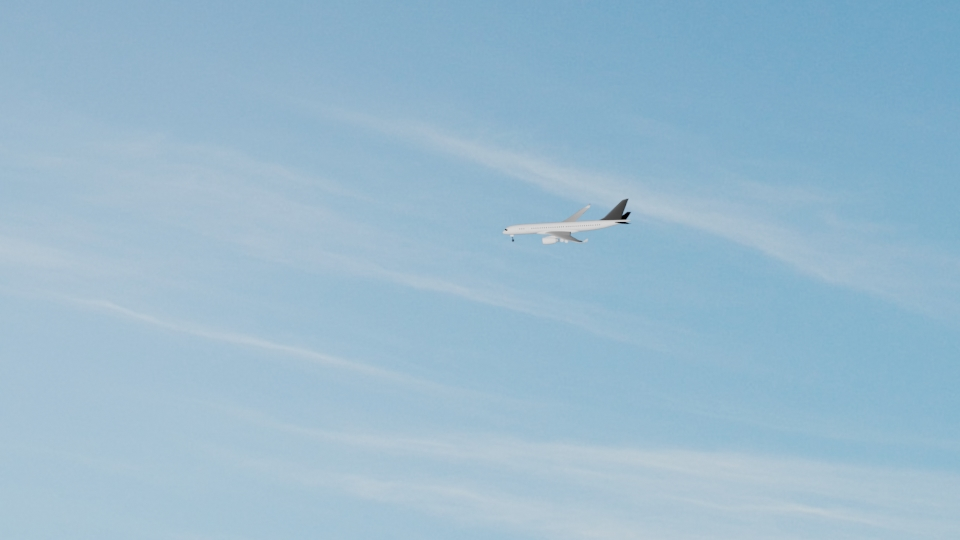plane: (503, 195, 633, 244)
